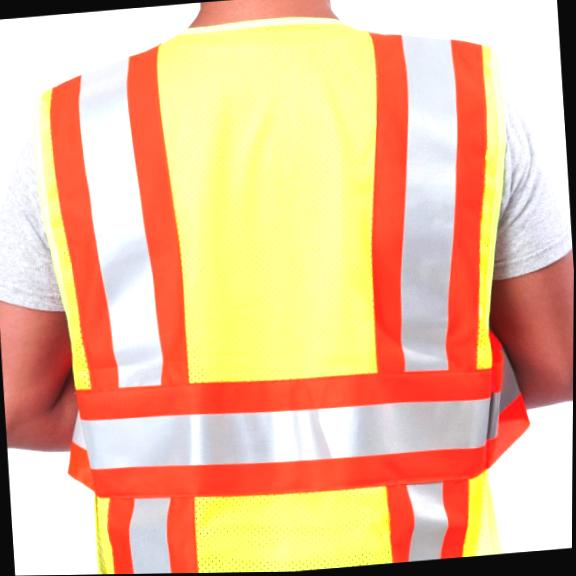safety_vest: (22, 0, 539, 576)
